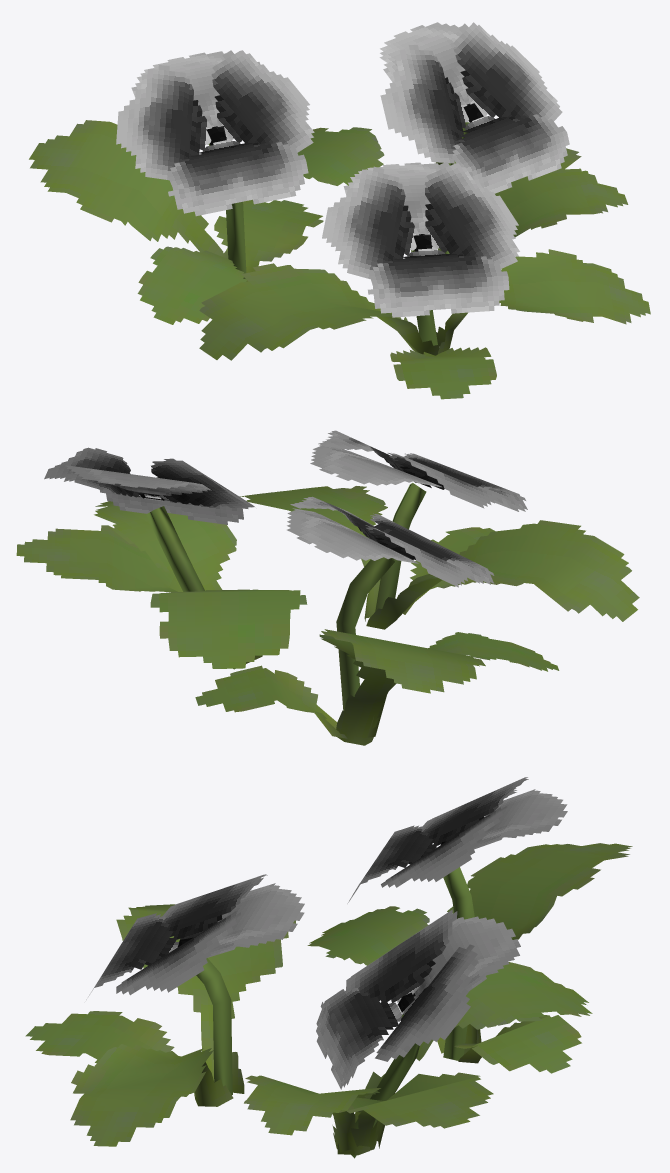
File: flower-pansy.glb
The picture shows the model from 3 angles, top to bottom: view 1: azimuth 30°, elevation 25°; view 2: azimuth 150°, elevation 25°; view 3: azimuth 270°, elevation 25°; orthographic projection. The views are drawn at different scales.
Bounding box in the file's own units: 10.83 × 4.92 × 10.68.
2 materials, 2 textured.
